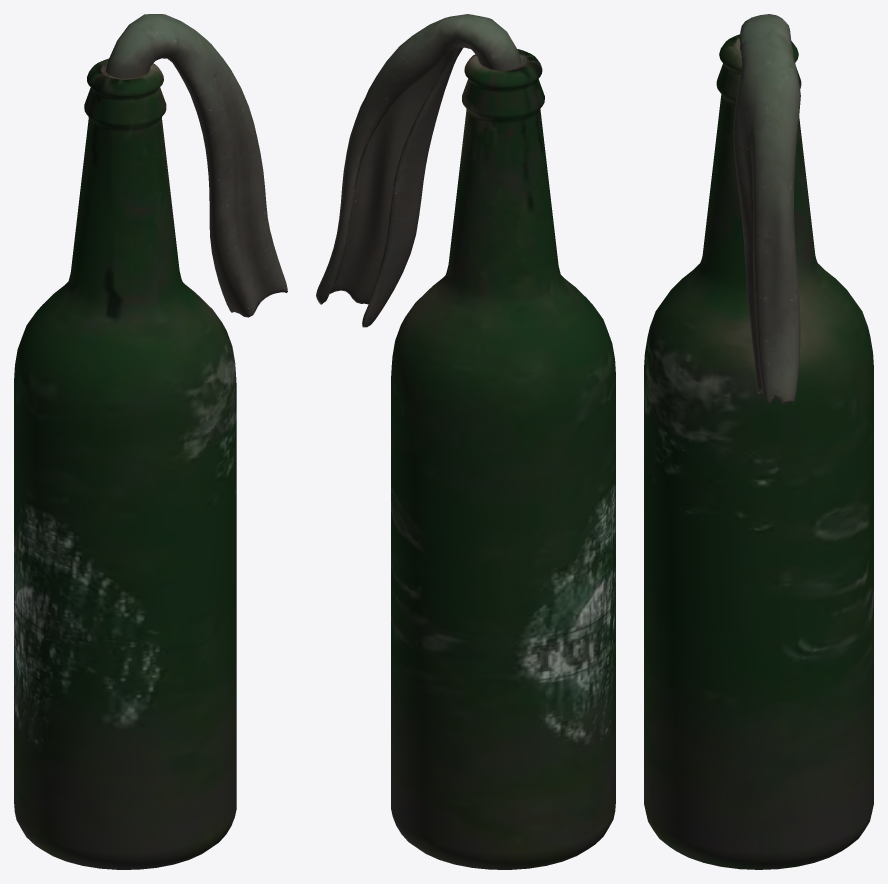
The model's file is s_molotov.glb.
The picture shows the model from 3 angles, left to right: view 1: azimuth 30°, elevation 25°; view 2: azimuth 150°, elevation 25°; view 3: azimuth 270°, elevation 25°; orthographic projection. The views are drawn at different scales.
Bounding box in the file's own units: 0.1123 × 0.32 × 0.0809.
2 materials, 2 textured.
